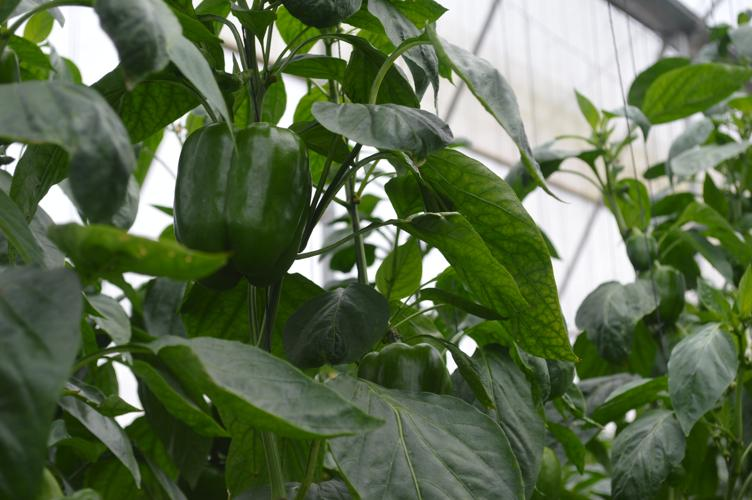BellPepper: (176, 121, 317, 280), (363, 341, 451, 398), (633, 265, 685, 324)
